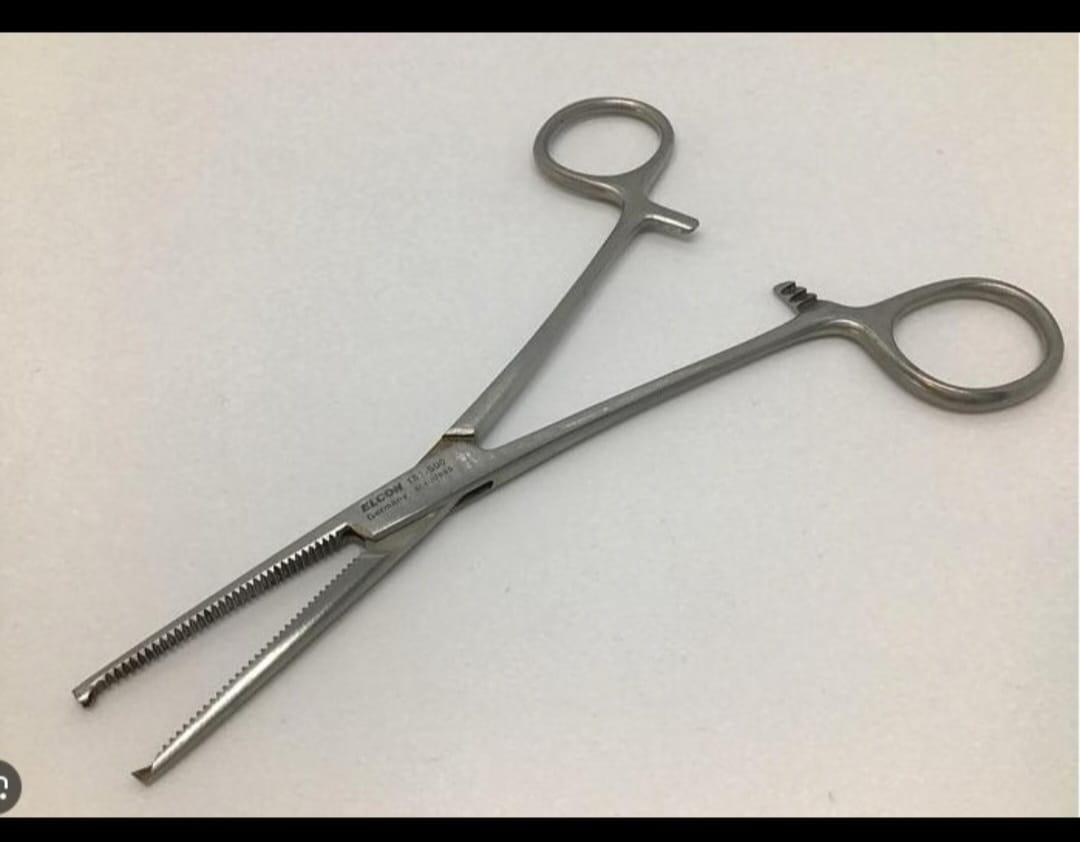Kocher Forceps: (59, 83, 1065, 791)
